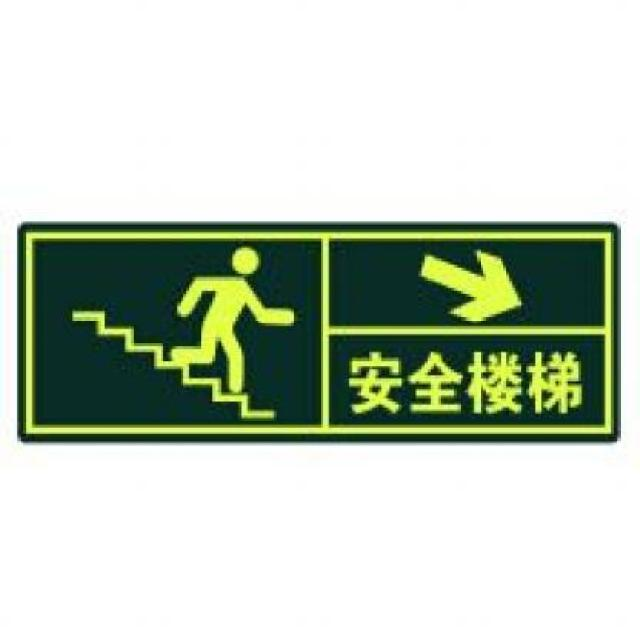exit_sign: (11, 212, 622, 447)
